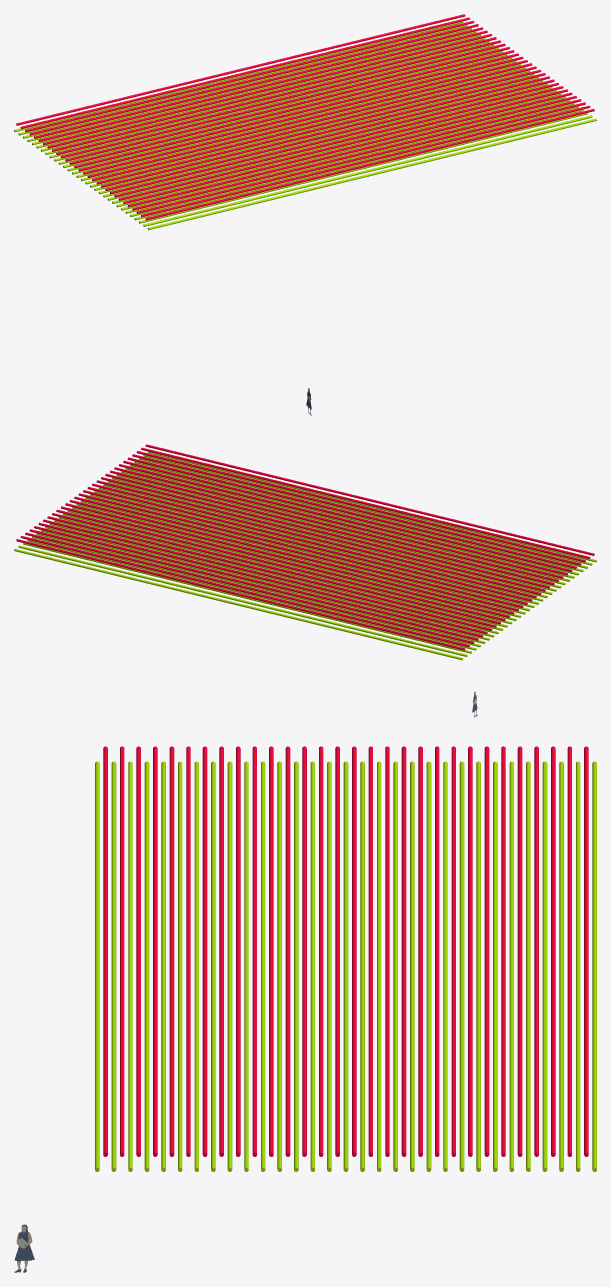
File: FloorXRay.glb
The picture shows the model from 3 angles, top to bottom: view 1: azimuth 30°, elevation 25°; view 2: azimuth 150°, elevation 25°; view 3: azimuth 270°, elevation 25°; orthographic projection. The views are drawn at different scales.
Parts seen in each view (by area): view 1: Geom3D (×61); view 2: Geom3D (×61); view 3: Geom3D (×61).
Boxes of the visible parts, x1,y1,x2,y2 form: Geom3D (×61): (14, 14, 596, 230); Geom3D (×61): (14, 444, 596, 660); Geom3D (×61): (95, 746, 596, 1171).
Bounding box in the file's own units: 29 × 13.25 × 17.58.
